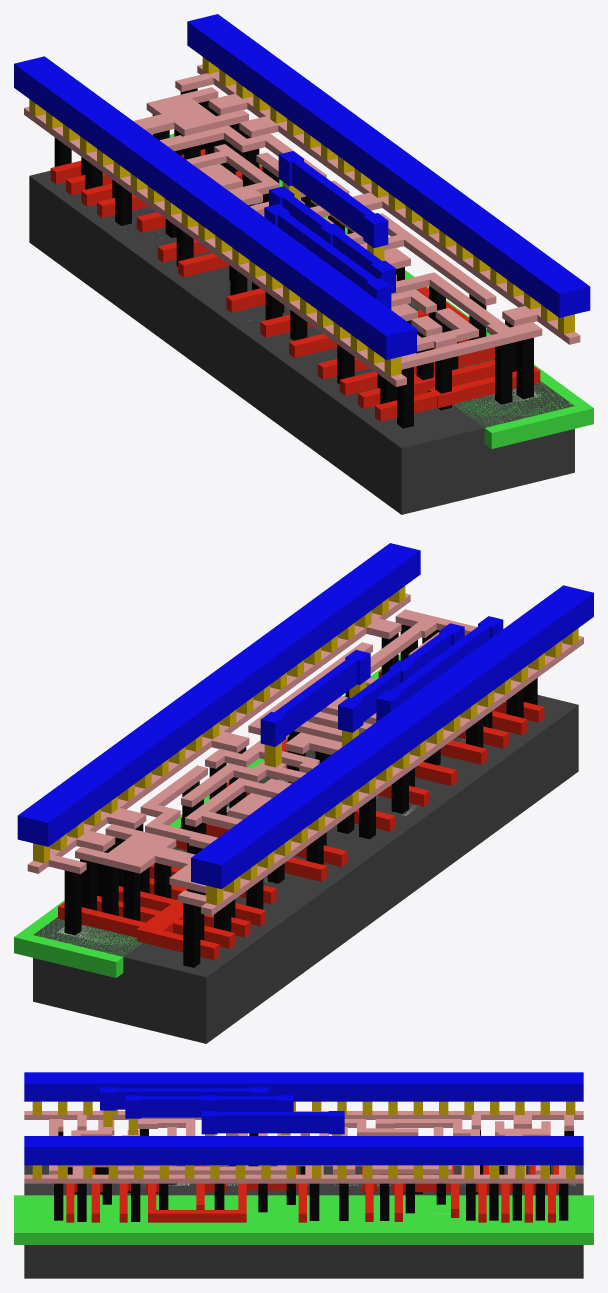
Rendered from sky130_fd_sc_hd__xor3_4.obj.
3 renders of one model, top to bottom at view 1: azimuth 30°, elevation 25°; view 2: azimuth 150°, elevation 25°; view 3: azimuth 270°, elevation 25°, orthographic. The views are drawn at different scales.
Visible parts, largest first — view 1: metal1, subs, li, poly, licon, mcon, nwell; view 2: metal1, subs, li, licon, poly, mcon, nwell; view 3: metal1, subs, nwell, li, poly, licon, mcon.
Boxes of the visible parts, <box> form: metal1: <box>14,14,590,360</box>; subs: <box>29,170,574,514</box>; li: <box>24,64,580,386</box>; poly: <box>50,149,540,421</box>; licon: <box>54,88,533,428</box>; mcon: <box>29,57,574,376</box>; nwell: <box>169,133,593,448</box>; metal1: <box>17,543,593,889</box>; subs: <box>33,695,578,1043</box>; li: <box>27,593,583,915</box>; licon: <box>64,624,537,967</box>; poly: <box>58,670,544,960</box>; mcon: <box>33,586,578,905</box>; nwell: <box>14,654,400,977</box>; metal1: <box>24,1072,583,1165</box>; subs: <box>24,1165,583,1278</box>; nwell: <box>14,1195,593,1244</box>; li: <box>24,1111,583,1183</box>; poly: <box>65,1165,558,1222</box>; licon: <box>54,1129,573,1221</box>; mcon: <box>32,1101,575,1178</box>.
Size of the model in its own units: 3.2 by 2.74 by 10.5.
